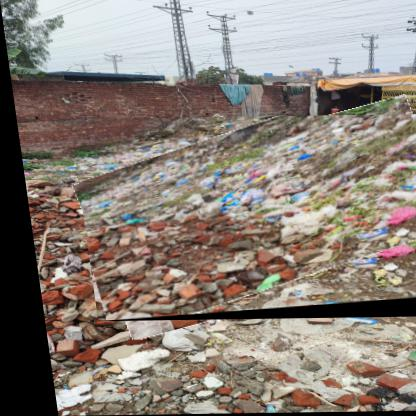Garbage: (67, 116, 416, 324)
